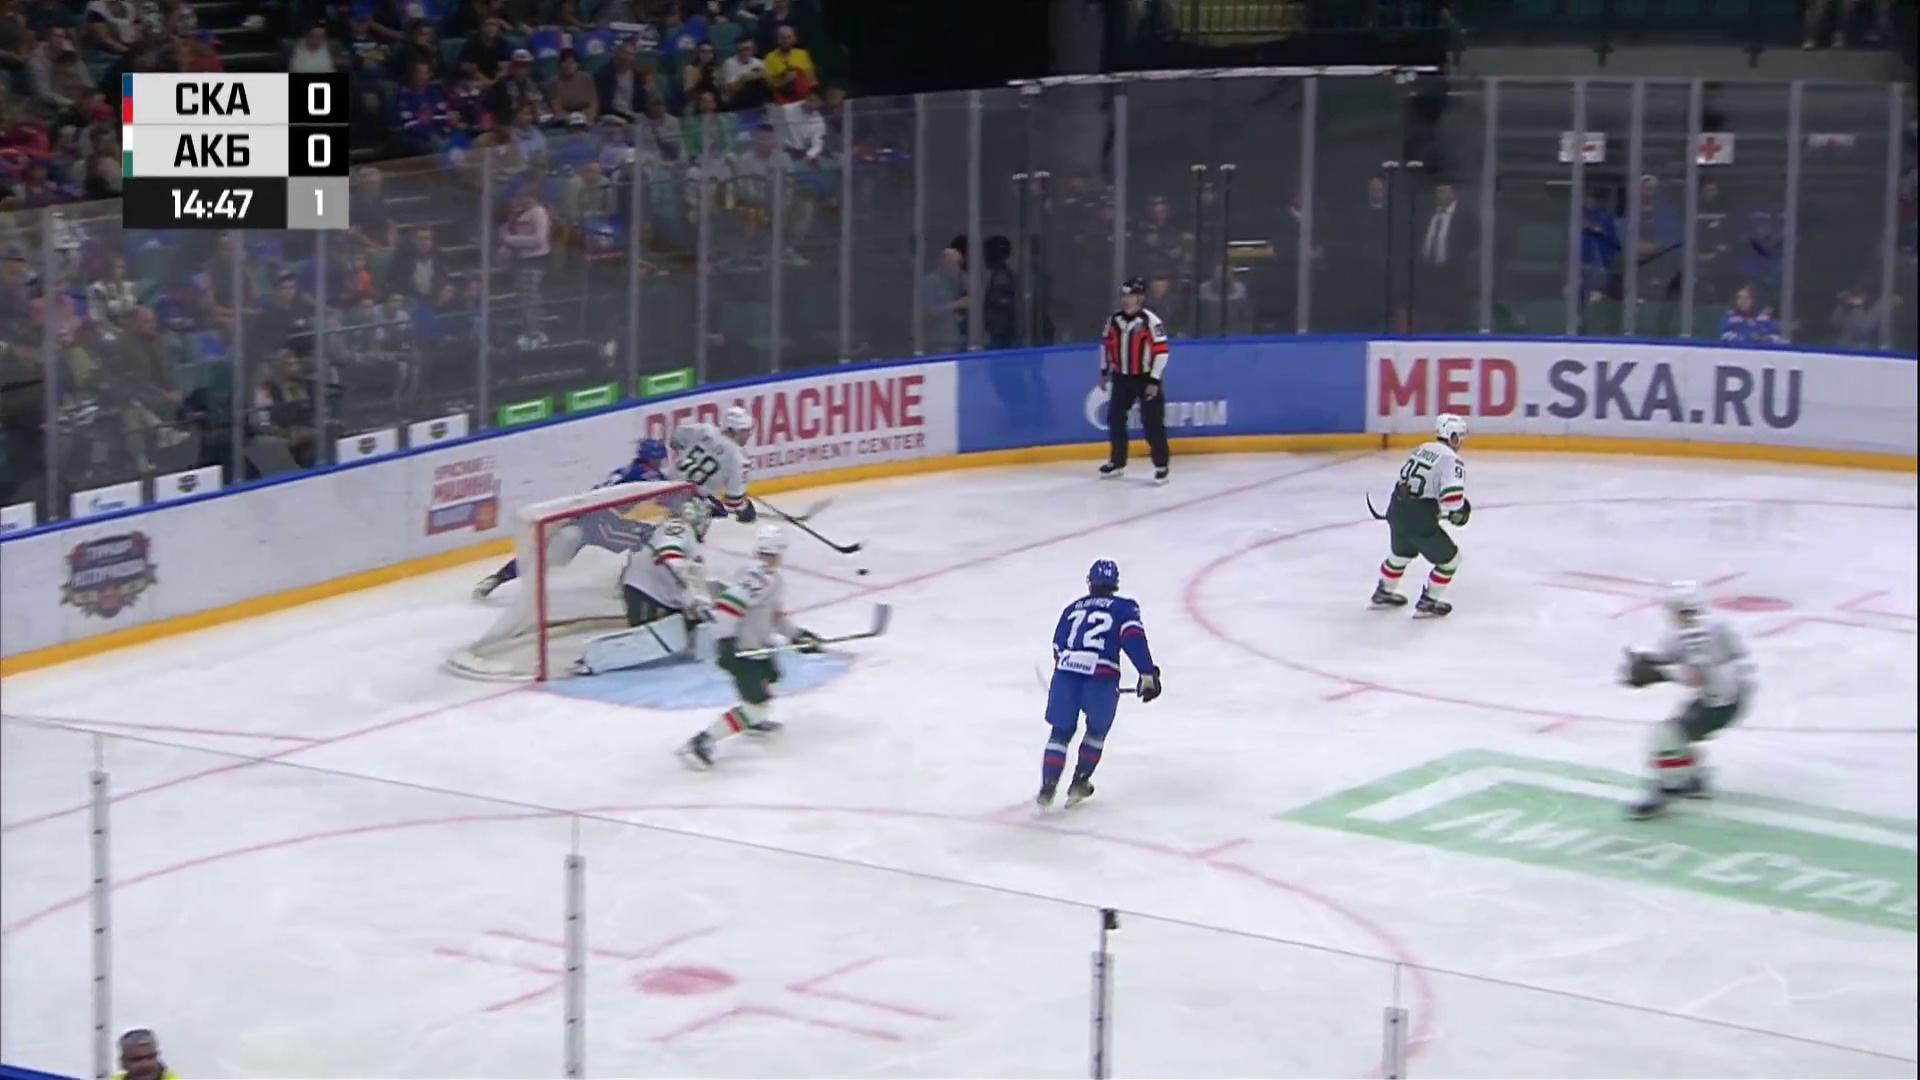ball: (856, 567, 869, 576)
